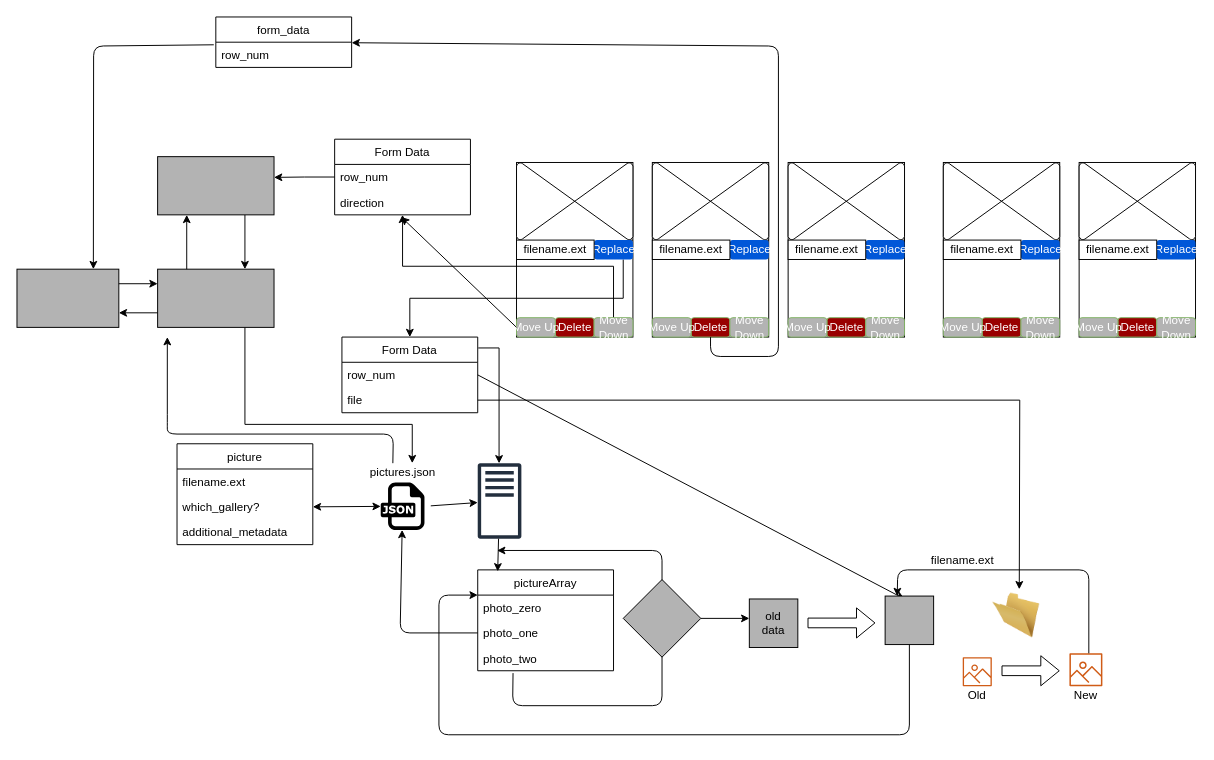
This 1214x760 diagram has some shape labels left out. The shapes that lost their labels are listed below. From the top down, each one's centre as x and y in pixels, then its label:
At [215,185]: "array_shove (or parent function)".
At [67,297]: "deletion function".
At [215,297]: "Array".
At [661,618]: "index == row_num".
At [909,620]: "new data".
